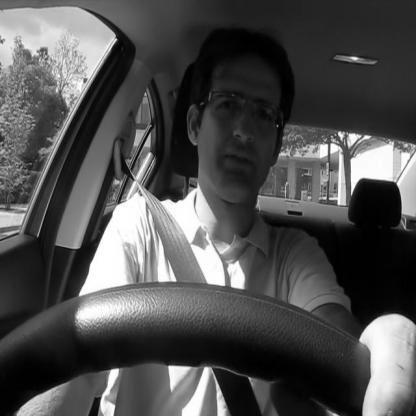seatbelt: (110, 23, 304, 284)
